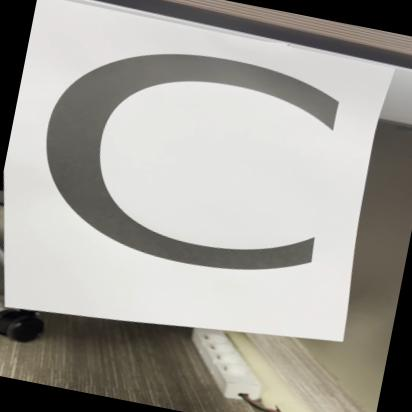seat: (0, 0, 407, 368)
